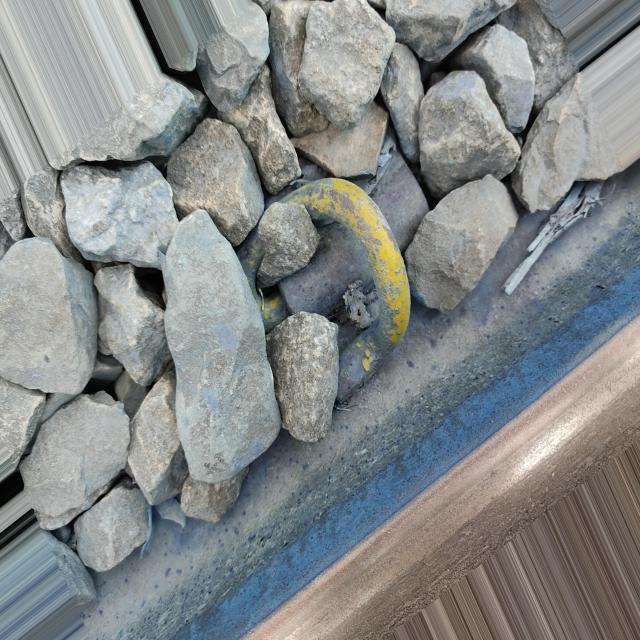Good Fasteners: (246, 133, 429, 405)
